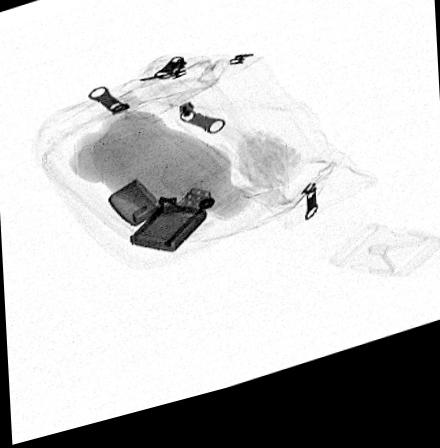Lighter: (106, 183, 216, 261)
